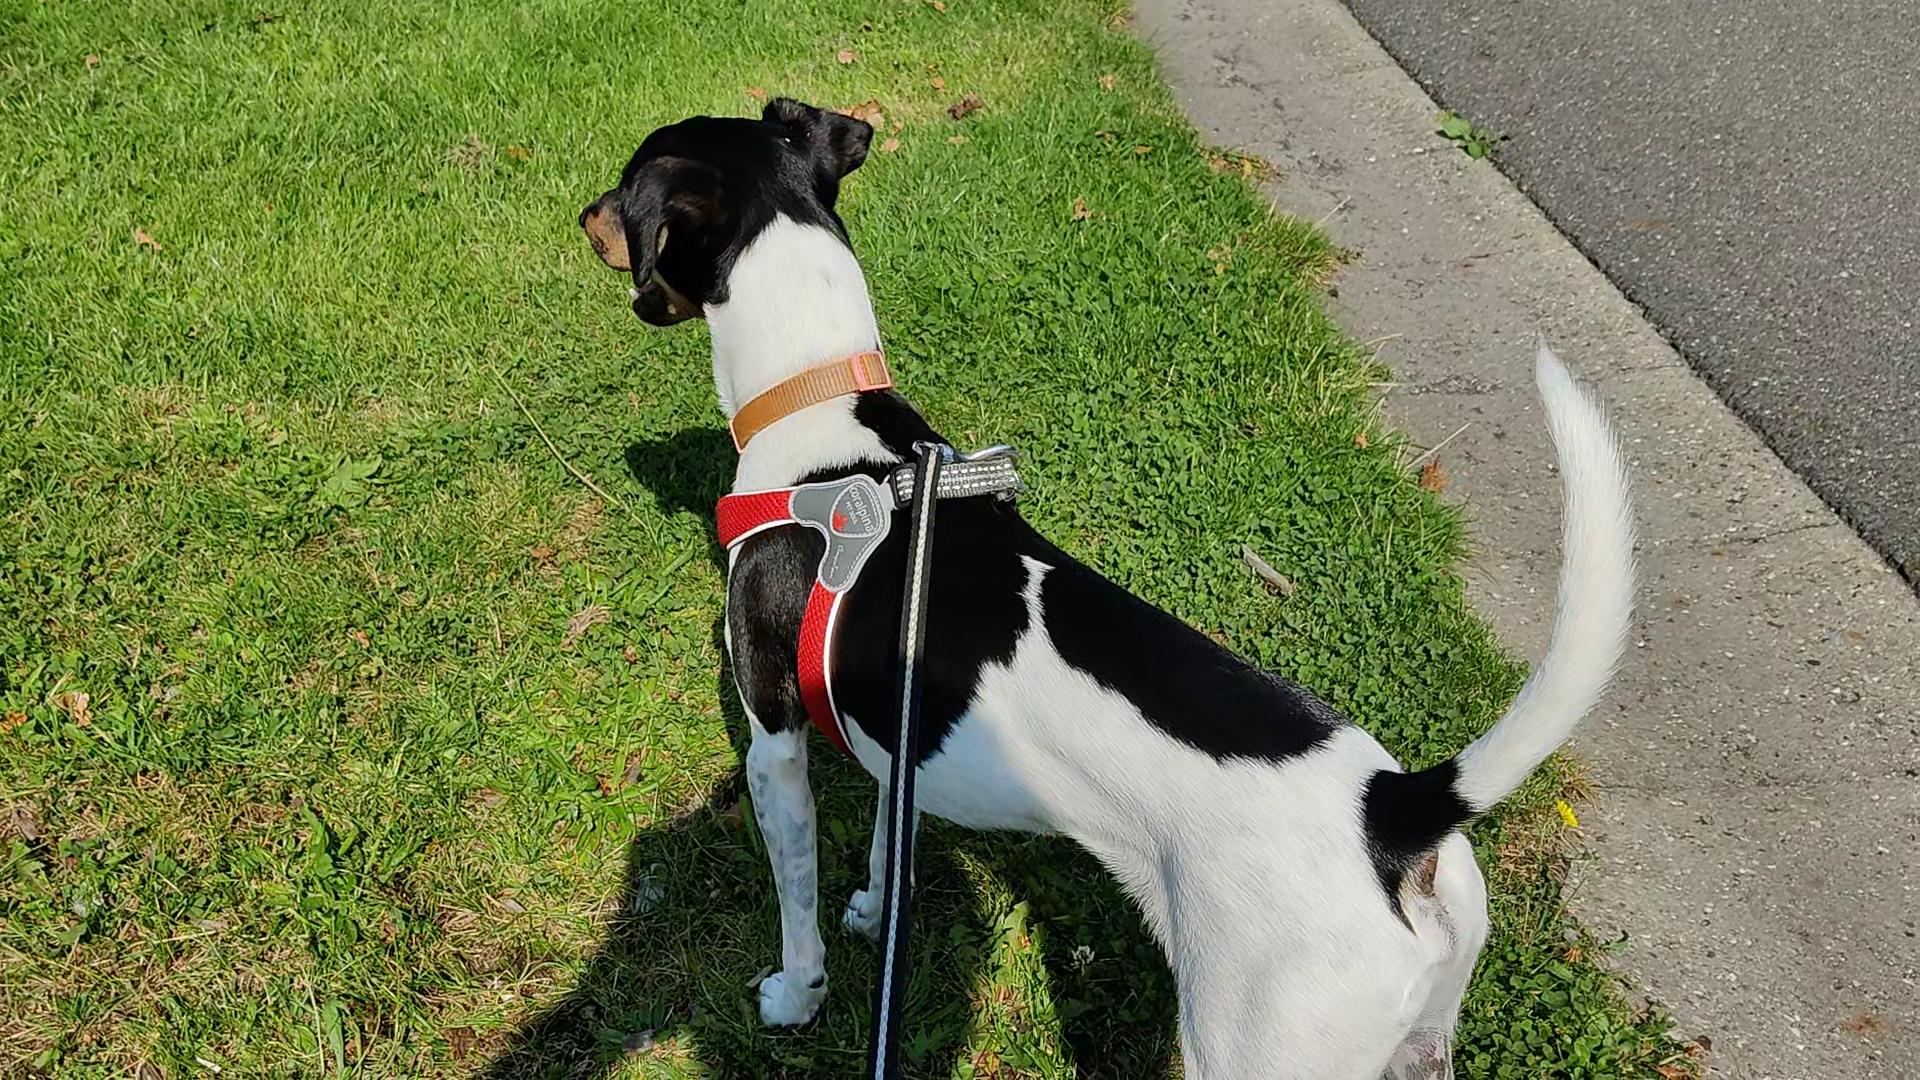Dog: (575, 92, 1648, 1079)
